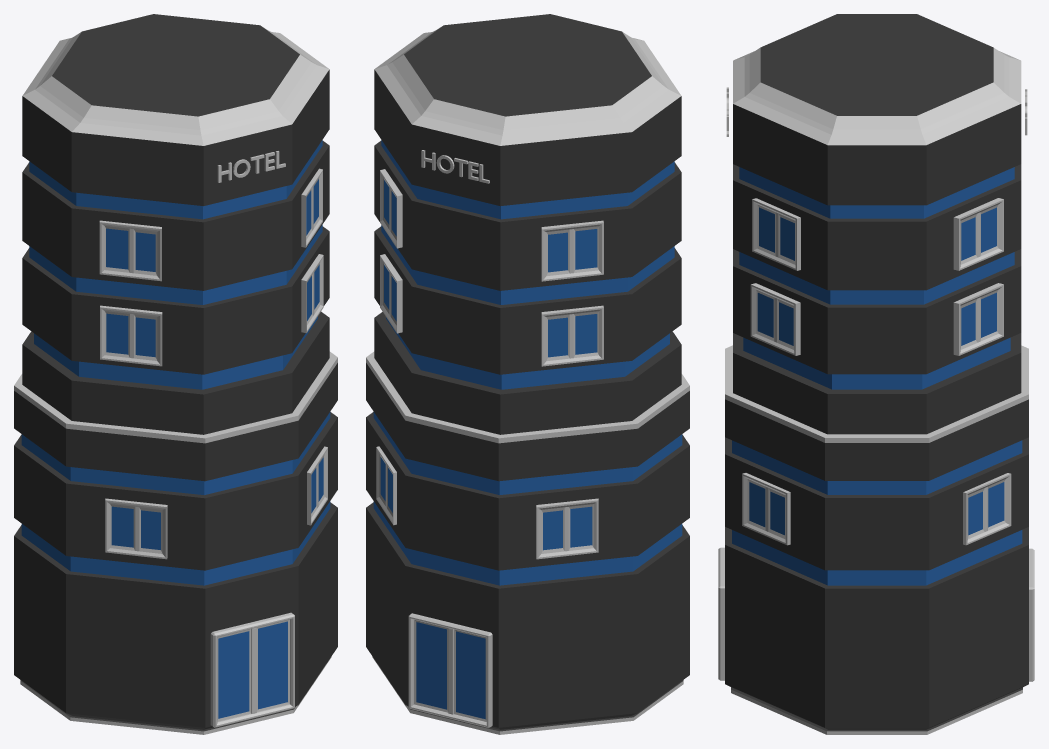
Rendered from hotel.glb.
3 views of the same model, side by side, from view 1: azimuth 30°, elevation 25°; view 2: azimuth 150°, elevation 25°; view 3: azimuth 270°, elevation 25° (orthographic).
Visible parts, largest first — view 1: HOTEL_COLOR.013_0; view 2: HOTEL_COLOR.013_0; view 3: HOTEL_COLOR.013_0.
Part boxes in pixels (x1=…): HOTEL_COLOR.013_0: x1=14, y1=14, x2=337, y2=734; HOTEL_COLOR.013_0: x1=366, y1=14, x2=689, y2=734; HOTEL_COLOR.013_0: x1=718, y1=14, x2=1034, y2=734.
Bounding box in the file's own units: 2.23 × 4.75 × 2.24.
Materials: 1 (1 with a texture image).
